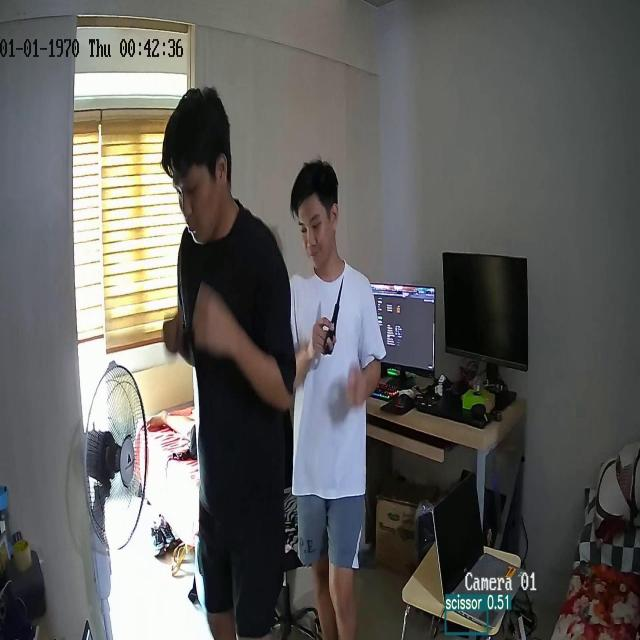scissor: (323, 276, 343, 355)
